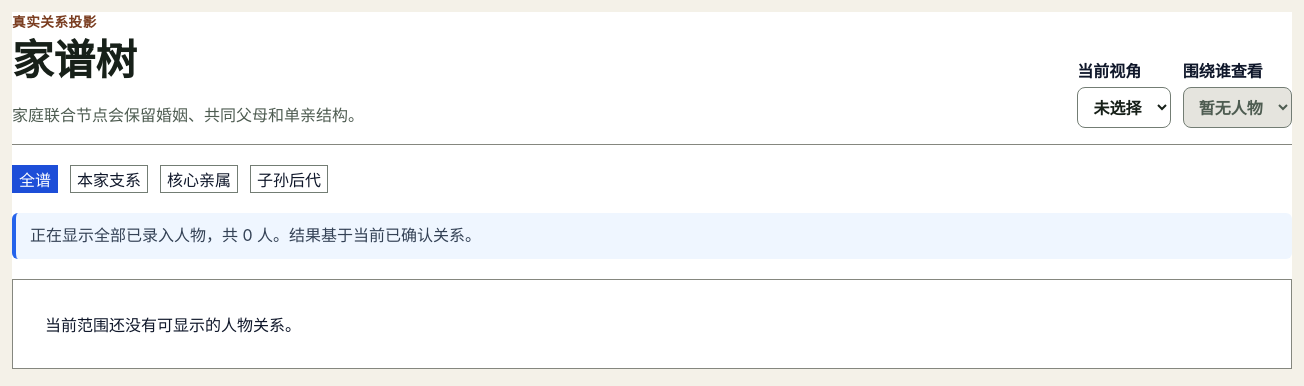
it: FamilyTreePage scope controls › guides empty workspaces without sending an invalid scoped request
The image size is (1304, 386).
Click the button "核心亲属" at (199, 179), box [160,165,238,193]
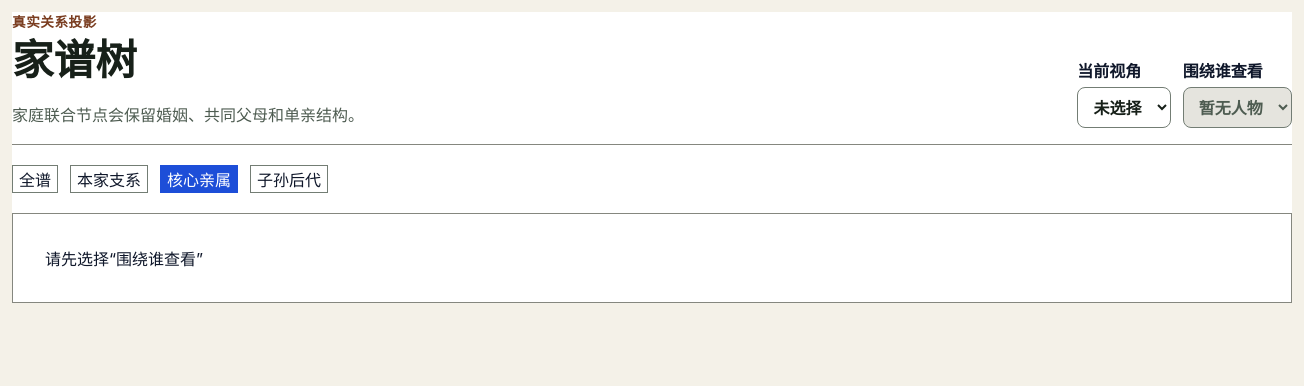
Now the text "请先选择“围绕谁查看”" is shown, box [12,213,1292,303]
